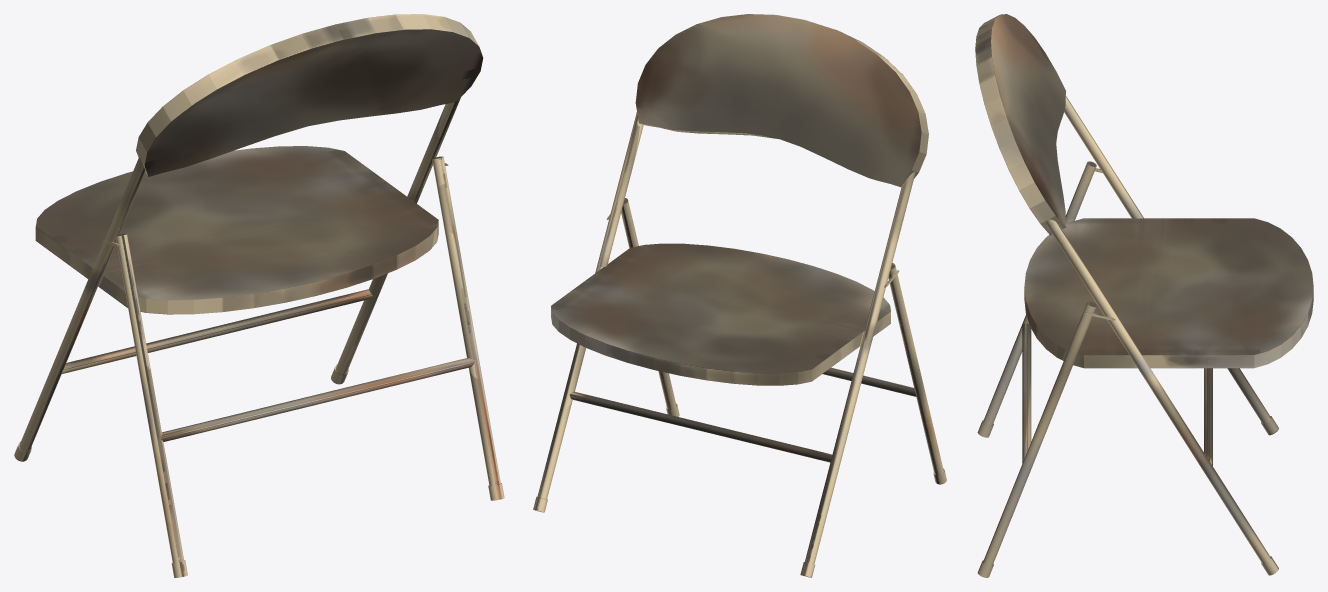
File: Chair.fbx
3 views of the same model, side by side, from view 1: azimuth 30°, elevation 25°; view 2: azimuth 150°, elevation 25°; view 3: azimuth 270°, elevation 25° (orthographic). The views are drawn at different scales.
Visible parts, largest first — view 1: Cylinder.006; view 2: Cylinder.006; view 3: Cylinder.006.
Boxes of the visible parts, left/top/right/bottom form: Cylinder.006: left=14, top=14, right=504, bottom=577; Cylinder.006: left=533, top=14, right=946, bottom=577; Cylinder.006: left=975, top=14, right=1313, bottom=577.
Bounding box in the file's own units: 386 × 566 × 373.
1 material, 1 textured.
